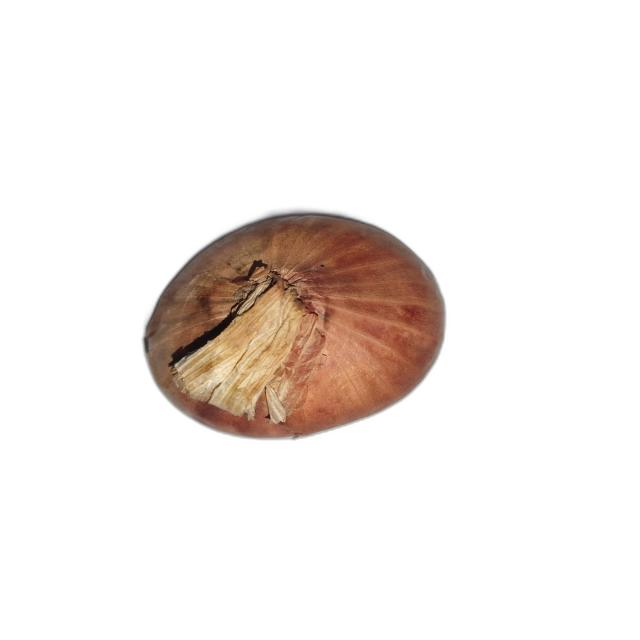onion: (145, 215, 447, 440)
